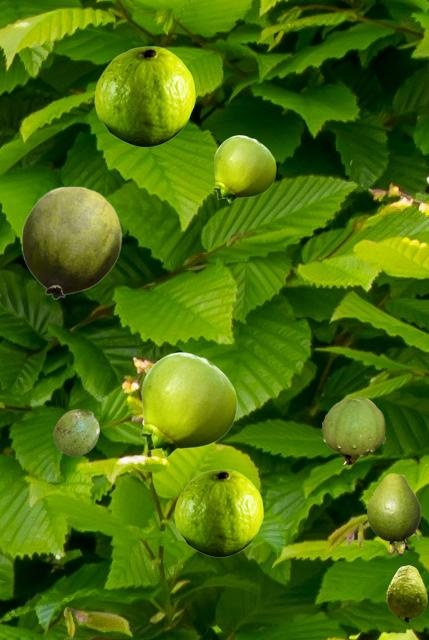guava: (21, 186, 121, 298), (94, 46, 194, 146), (140, 352, 236, 456), (174, 469, 262, 556), (367, 473, 419, 554), (322, 397, 384, 464), (213, 135, 275, 202), (386, 565, 426, 621), (53, 409, 98, 455)
